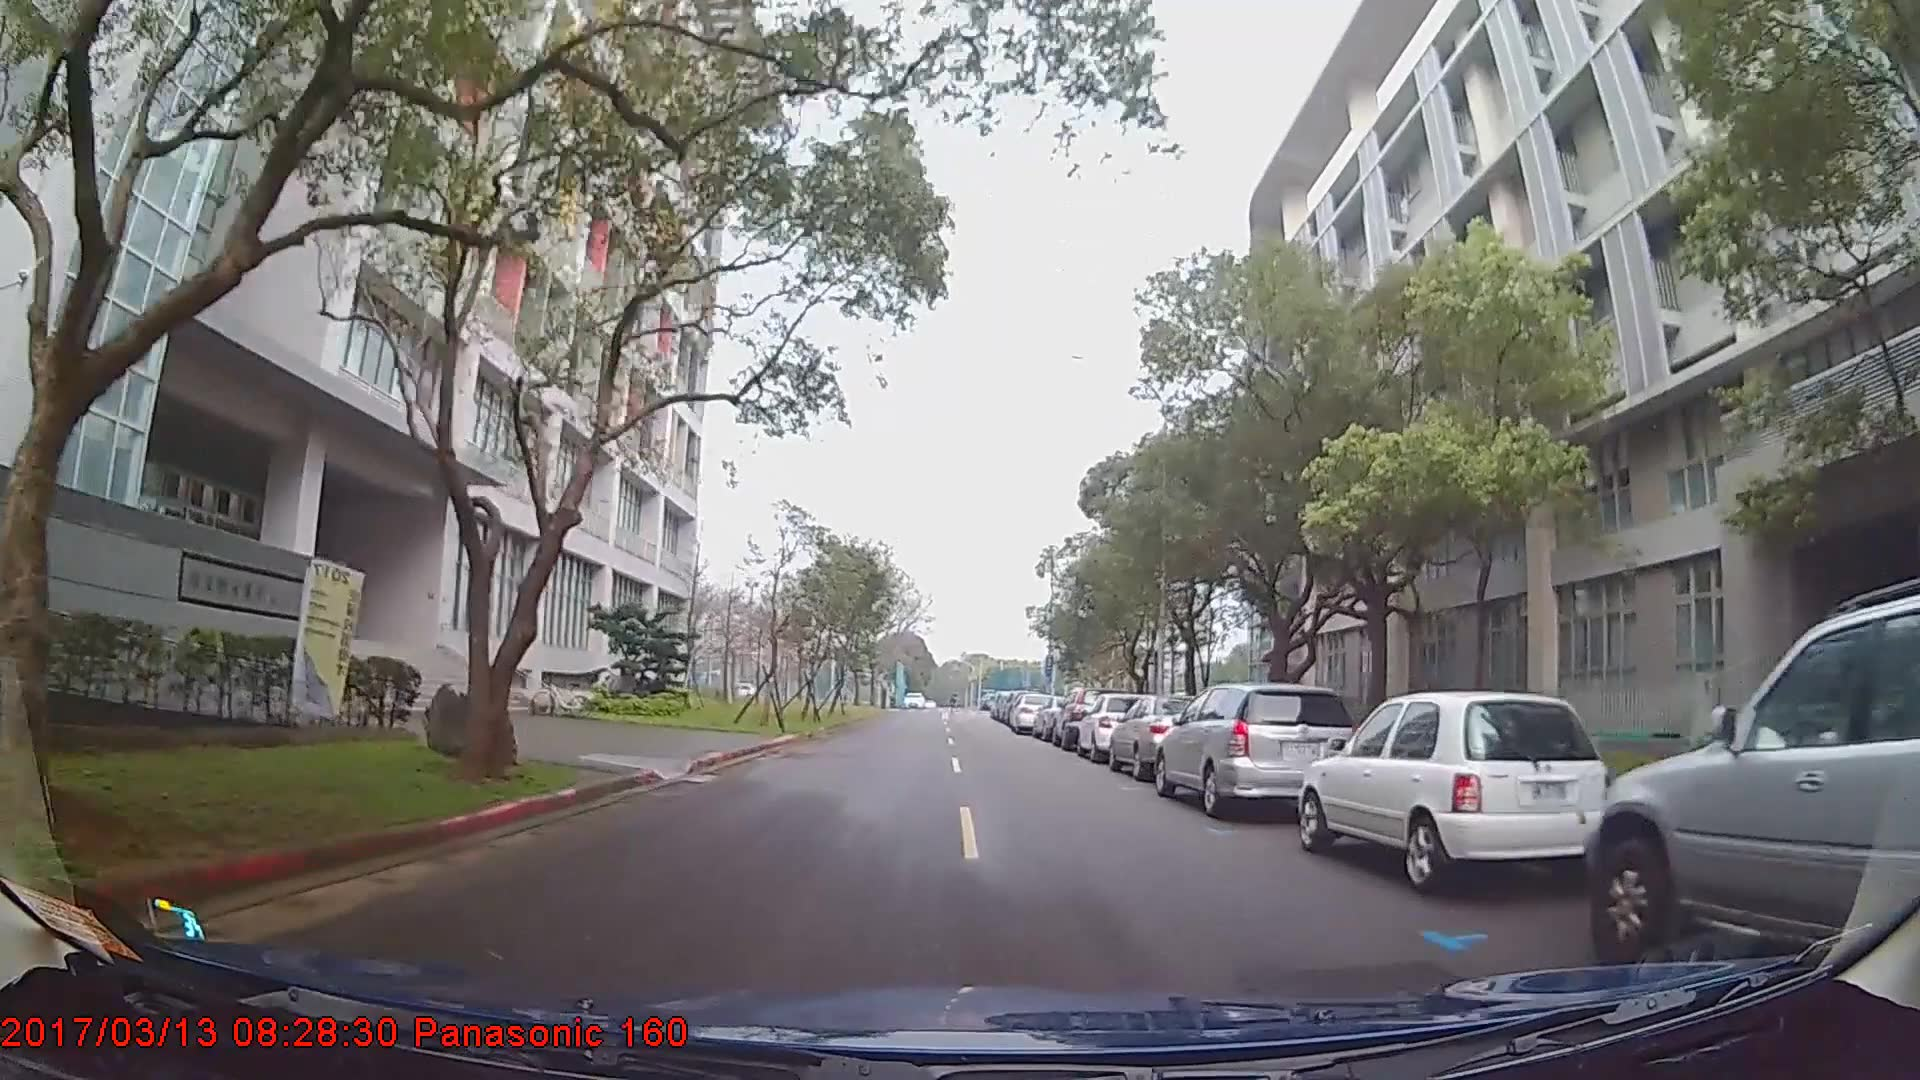vehicle: (1590, 601, 1920, 969), (1295, 690, 1611, 891), (1153, 679, 1362, 819), (1106, 694, 1222, 781), (1007, 690, 1059, 735)
